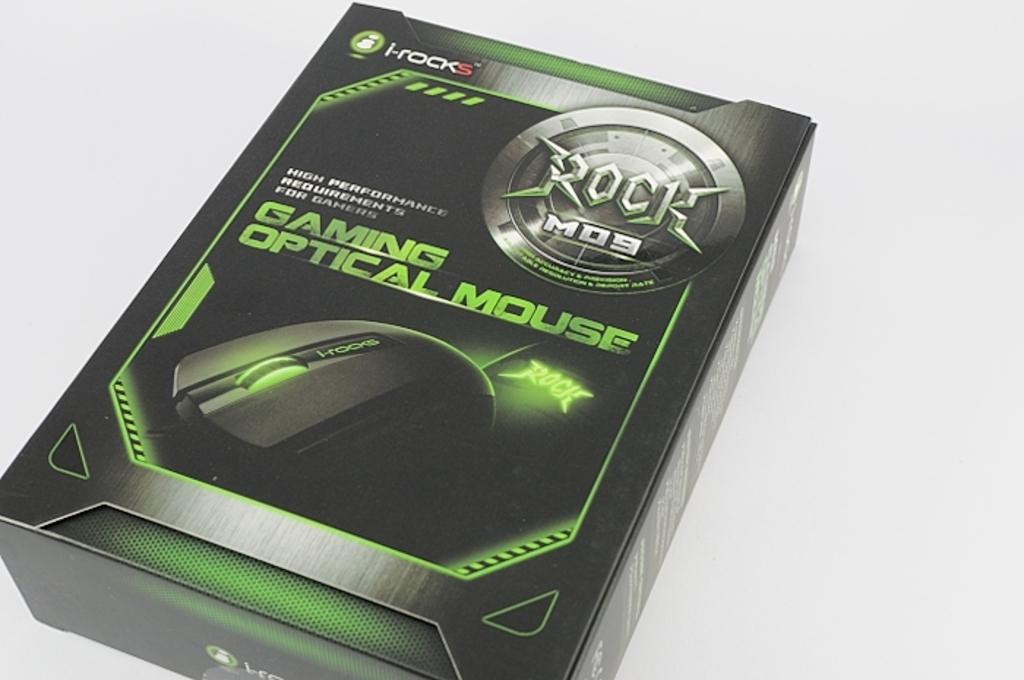Computer-mouse: (171, 316, 500, 487)
